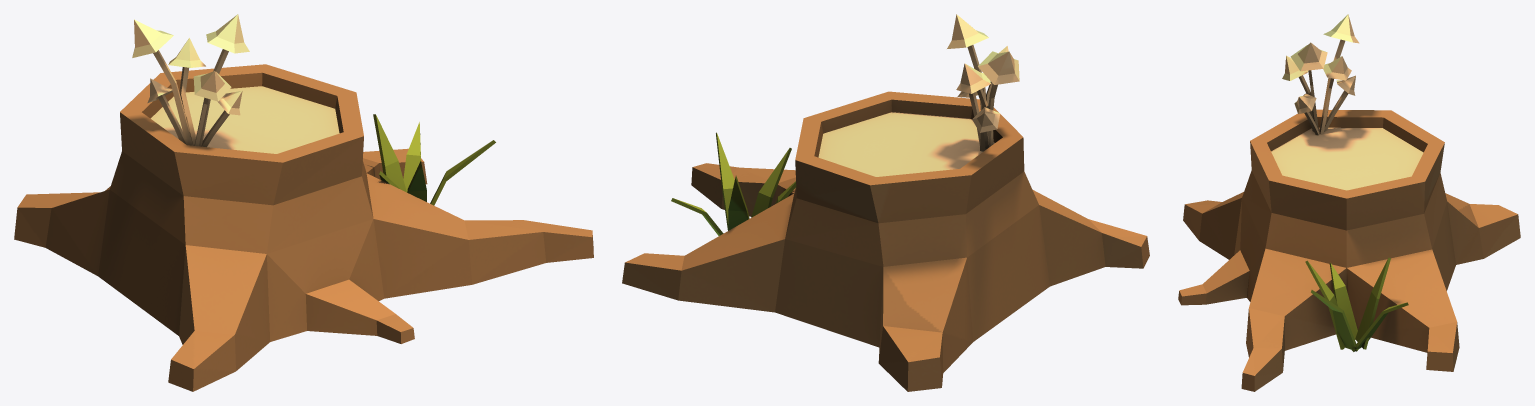
Rendered from PUSHILIN_tree_stump.obj.
The picture shows the model from 3 angles, left to right: view 1: azimuth 30°, elevation 25°; view 2: azimuth 150°, elevation 25°; view 3: azimuth 270°, elevation 25°; orthographic projection. The views are drawn at different scales.
Parts seen in each view (by area): view 1: tree_stump; view 2: tree_stump; view 3: tree_stump.
Part boxes in pixels (x1,y1,x2,y2): tree_stump: (14, 14, 593, 391); tree_stump: (622, 14, 1149, 391); tree_stump: (1178, 14, 1520, 391).
Size of the model in its own units: 1.7 by 1.04 by 1.41.
Materials: 1 (1 with a texture image).
